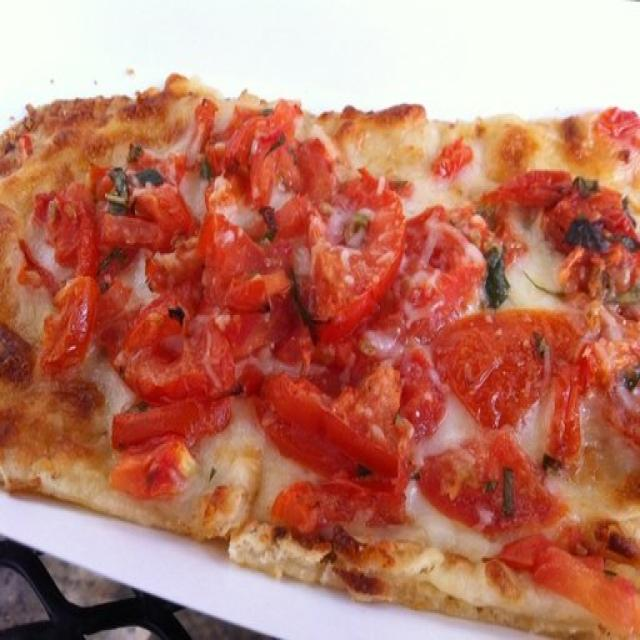Basil: (111, 162, 161, 206), (482, 244, 510, 307), (567, 210, 609, 249), (575, 170, 603, 197)
Pizza: (0, 69, 638, 640)
Tomato: (206, 222, 404, 455), (436, 314, 586, 419), (423, 436, 565, 536), (512, 537, 640, 630), (501, 174, 640, 250), (227, 123, 328, 214), (403, 218, 479, 310), (24, 188, 102, 276), (122, 314, 203, 398), (278, 479, 376, 543), (114, 416, 184, 487), (148, 239, 202, 309), (47, 282, 92, 364), (102, 212, 169, 250), (434, 138, 469, 180)
